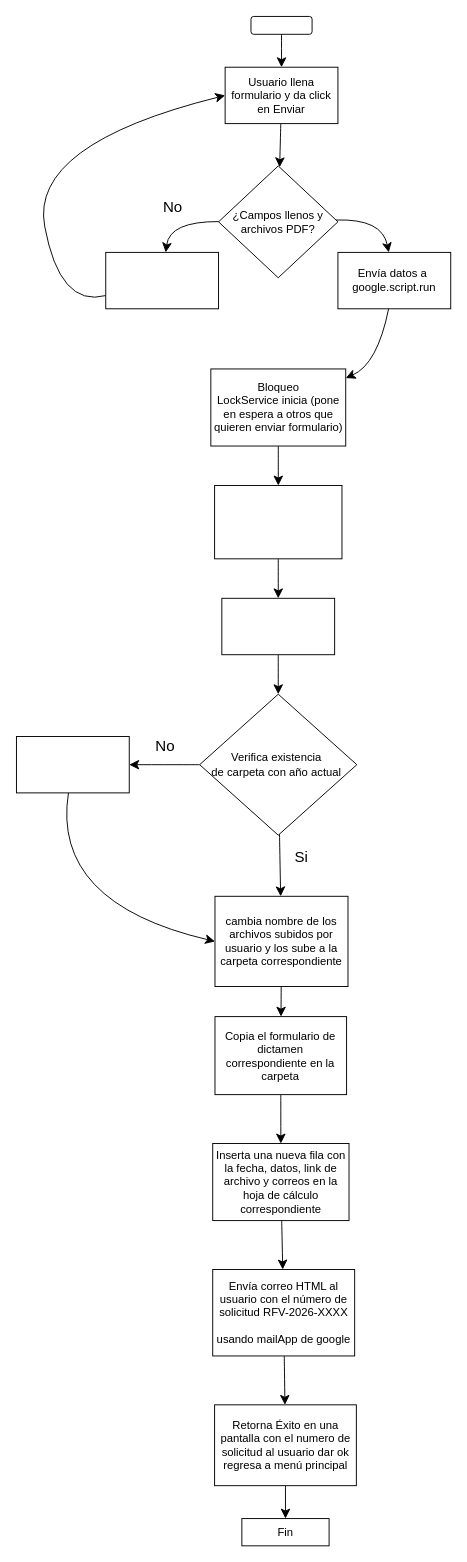
Image size: 467x1562. Some labels were removed from this diagram. Each missing label, with the centre of its shape:
Consulta memoria y genera RFV-2026-xxxx: the point at 278,522
crea carpeta con año: the point at 72,764
Desbloqueo Libera LockService (otros pueden enviar): the point at 278,626
Inicio: the point at 281,25
Muestra campo a llenar o indica que no es PDF: the point at 162,280
